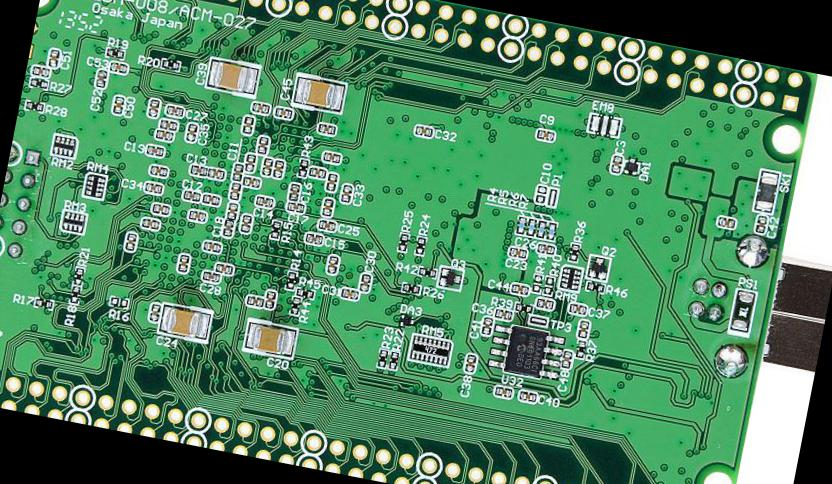Capacitor: (242, 317, 297, 359), (204, 56, 260, 96), (156, 302, 211, 342), (291, 73, 346, 112), (606, 152, 624, 174), (337, 182, 353, 206), (314, 119, 336, 136), (318, 194, 335, 216), (574, 316, 590, 339), (212, 260, 235, 276), (412, 122, 434, 138), (258, 155, 274, 177), (322, 170, 338, 192), (226, 178, 242, 200), (185, 206, 207, 222), (324, 252, 340, 274), (492, 382, 514, 398), (198, 191, 221, 206), (249, 99, 270, 115), (122, 230, 138, 251), (110, 94, 125, 116), (152, 127, 174, 142), (143, 143, 165, 158), (146, 300, 161, 322), (262, 287, 276, 310), (242, 151, 257, 172), (315, 216, 336, 231), (200, 238, 221, 253), (46, 46, 60, 68), (754, 212, 768, 234), (240, 112, 254, 134), (146, 96, 160, 118), (714, 214, 736, 228), (284, 199, 306, 213), (206, 165, 226, 180), (142, 179, 162, 194), (244, 293, 264, 308), (534, 127, 555, 141), (184, 121, 198, 142), (147, 163, 168, 177), (253, 194, 274, 208), (506, 245, 527, 259), (238, 212, 252, 233), (508, 281, 529, 295), (139, 216, 160, 230), (357, 271, 371, 292), (176, 252, 190, 273), (479, 314, 493, 335), (200, 269, 221, 283), (462, 351, 476, 372), (109, 59, 128, 74), (188, 162, 207, 177), (94, 68, 108, 88), (320, 150, 340, 164), (306, 164, 326, 178), (240, 174, 260, 188), (286, 182, 300, 202), (181, 188, 201, 202), (339, 286, 359, 300), (157, 117, 178, 130), (165, 103, 184, 117), (230, 161, 244, 180), (303, 230, 322, 244), (151, 201, 170, 215), (493, 306, 512, 320), (272, 106, 292, 119), (30, 63, 50, 76), (534, 296, 554, 309), (559, 348, 572, 368), (224, 200, 238, 218), (568, 302, 586, 316), (518, 388, 536, 402), (256, 134, 268, 154), (536, 242, 556, 254), (222, 218, 234, 236)
Connector: (45, 0, 808, 118), (0, 364, 728, 483), (27, 18, 45, 66)
Diode: (620, 153, 640, 175), (398, 311, 416, 328)
Electrolytic Capacitor: (270, 157, 285, 178)
IC: (482, 318, 566, 380)
PS: (727, 287, 756, 335)
Pads: (584, 111, 620, 136), (106, 292, 130, 308), (532, 183, 548, 205)
Pins: (0, 136, 47, 269), (682, 271, 732, 328), (706, 336, 752, 386), (728, 228, 773, 270)
Resistor Jumper: (405, 332, 451, 366), (81, 170, 106, 200), (58, 208, 87, 233), (49, 133, 77, 158), (557, 263, 582, 291)
Resistor Network: (374, 344, 388, 368), (540, 273, 554, 296), (103, 45, 124, 60), (566, 240, 580, 262), (386, 348, 399, 371), (412, 233, 426, 254), (26, 75, 48, 88), (160, 56, 180, 70), (416, 264, 436, 278), (512, 300, 532, 313), (296, 157, 308, 178), (535, 218, 547, 239), (530, 272, 542, 293), (22, 99, 42, 111), (515, 214, 527, 234), (268, 218, 280, 238), (400, 281, 420, 293), (284, 269, 296, 289), (68, 283, 80, 302), (33, 296, 52, 308), (289, 296, 300, 316), (586, 280, 604, 292), (295, 286, 313, 298), (72, 266, 84, 284), (545, 221, 556, 240), (396, 232, 407, 251), (526, 216, 536, 235), (575, 340, 585, 358)
SK: (752, 167, 780, 214)
Test Point: (528, 313, 548, 326), (546, 186, 558, 206)
Transistor: (436, 264, 463, 290), (586, 253, 609, 280)
